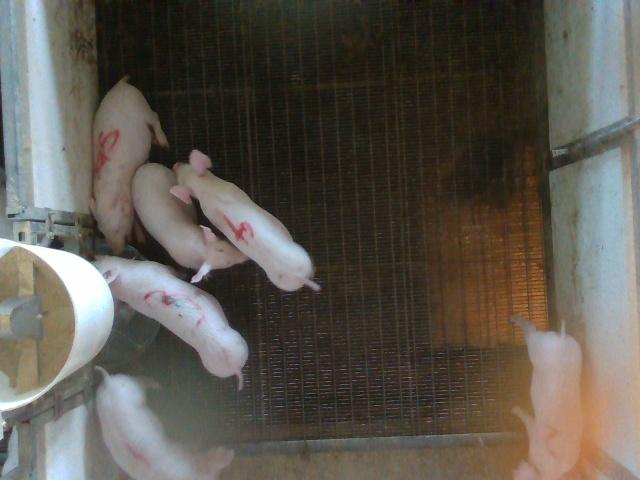pig-1: (96, 368, 198, 479)
pig-2: (514, 316, 581, 479)
pig-3: (94, 256, 248, 388)
pig-4: (171, 150, 320, 291)
pig-5: (90, 76, 168, 254)
